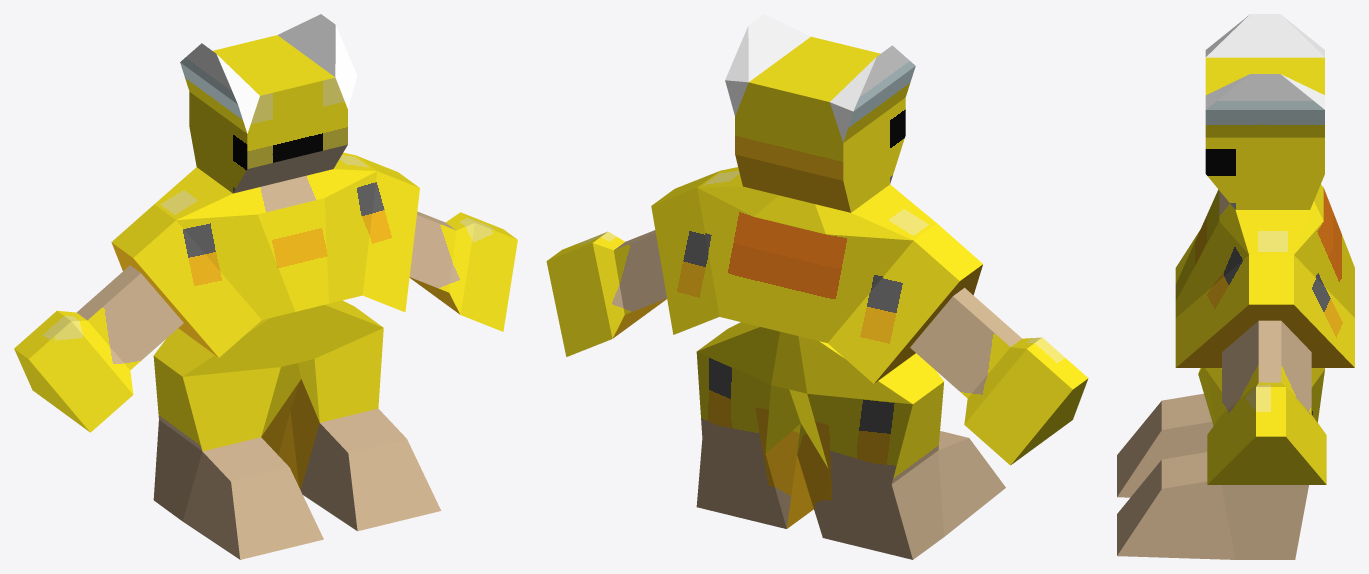
Rendered from Robot Model.fbx.
3 views of the same model, side by side, from view 1: azimuth 30°, elevation 25°; view 2: azimuth 150°, elevation 25°; view 3: azimuth 270°, elevation 25° (orthographic). The views are drawn at different scales.
Parts seen in each view (by area): view 1: cuboid; view 2: cuboid; view 3: cuboid.
Part boxes in pixels (box(x1,y1,x2,y2)): cuboid: box(14, 14, 517, 559); cuboid: box(546, 14, 1088, 559); cuboid: box(1117, 14, 1354, 559).
Bounding box in the file's own units: 60.83 × 53.76 × 24.9.
Materials: 1 (1 with a texture image).
